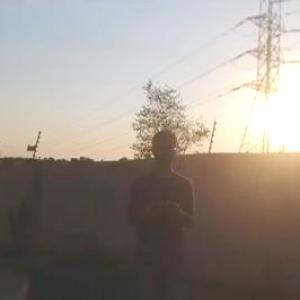follow: (122, 122, 200, 299)
